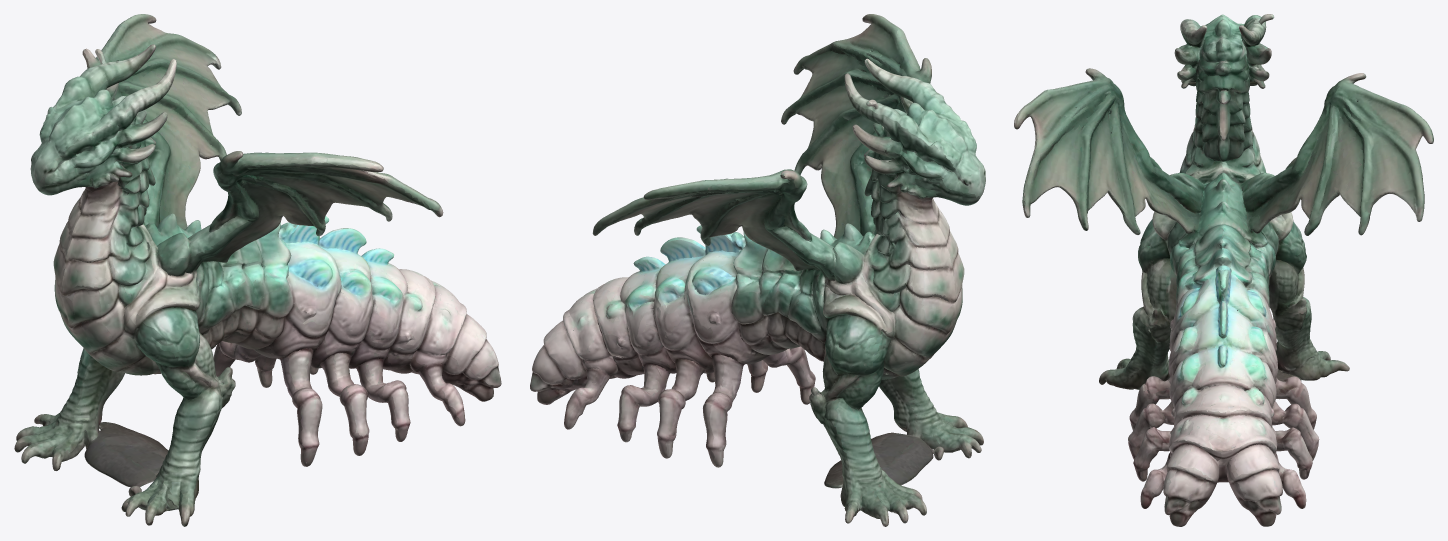
The model's file is child1.glb.
The picture shows the model from 3 angles, left to right: view 1: azimuth 30°, elevation 25°; view 2: azimuth 150°, elevation 25°; view 3: azimuth 270°, elevation 25°; orthographic projection. The views are drawn at different scales.
Visible parts, largest first — view 1: geometry_0; view 2: geometry_0; view 3: geometry_0.
Boxes of the visible parts, bbox=[...] form: geometry_0: bbox=[14, 14, 501, 526]; geometry_0: bbox=[530, 14, 985, 526]; geometry_0: bbox=[1014, 14, 1433, 526].
Bounding box in the file's own units: 0.45 × 0.409 × 0.4105.
Materials: 1 (1 with a texture image).
